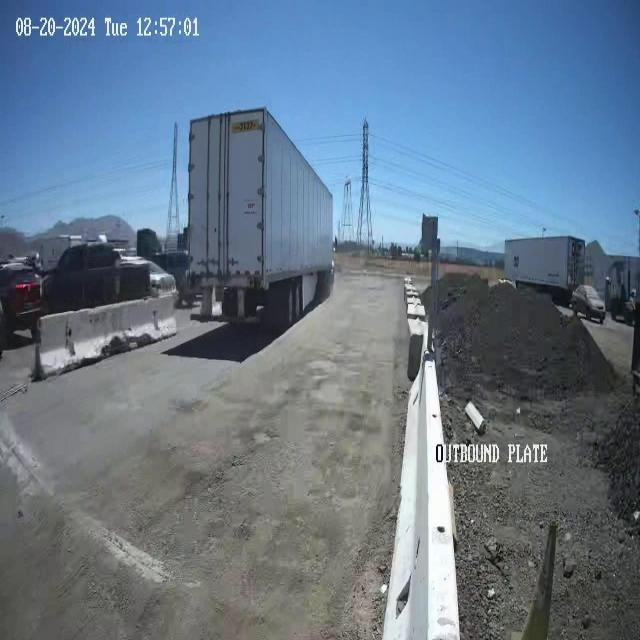TRUCK_CONTAINER: (185, 104, 334, 324)
